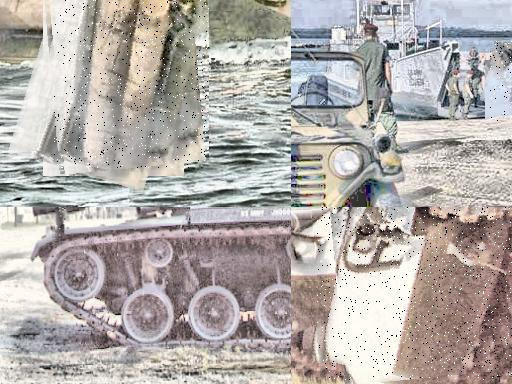tanks: (33, 208, 292, 344), (318, 208, 512, 381), (56, 1, 206, 169), (55, 208, 66, 238)
